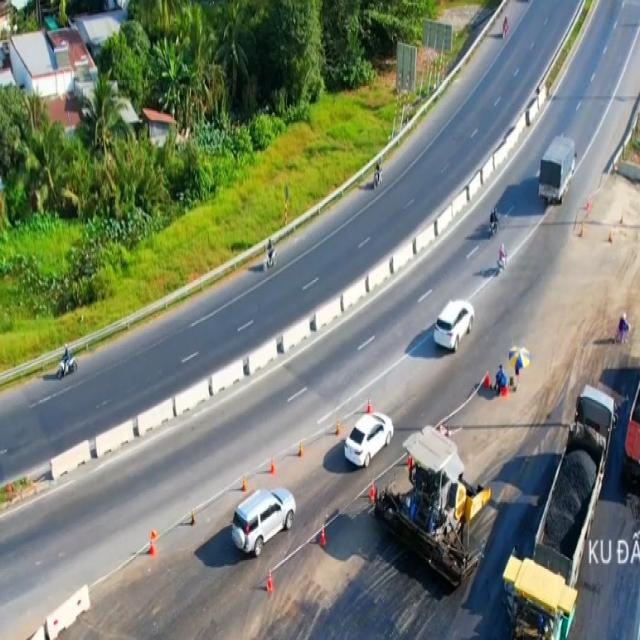car: (232, 482, 297, 560), (342, 410, 398, 466), (434, 294, 476, 354)
motorbike: (56, 348, 76, 382), (262, 242, 275, 272), (487, 208, 500, 238), (496, 242, 508, 274)
truck: (539, 134, 578, 204)
